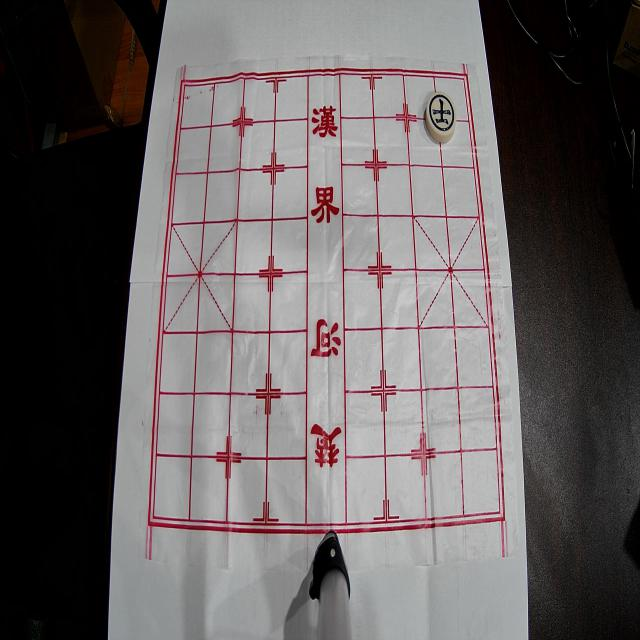black-guard: (426, 91, 456, 142)
